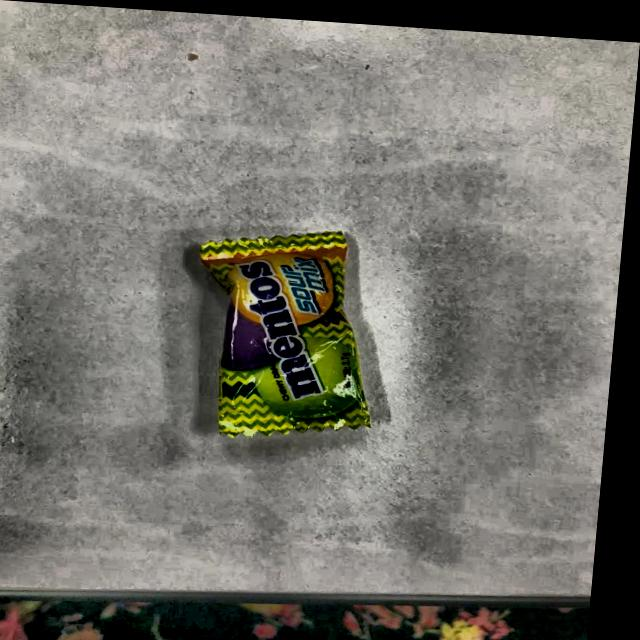Plastic: (201, 226, 400, 436)
